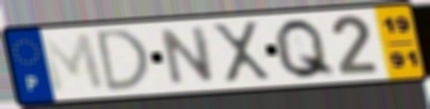2: (332, 13, 384, 80)
D: (94, 26, 153, 95)
M: (38, 31, 109, 96)
N: (158, 24, 217, 88)
Q: (272, 16, 340, 82)
X: (208, 19, 275, 86)
